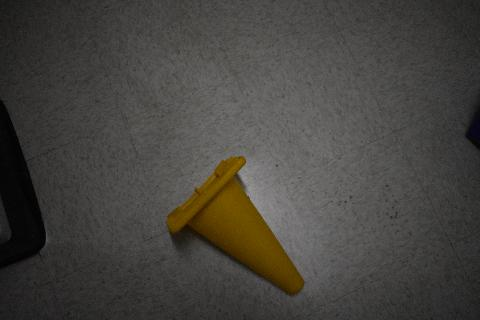cone: (165, 155, 305, 297)
